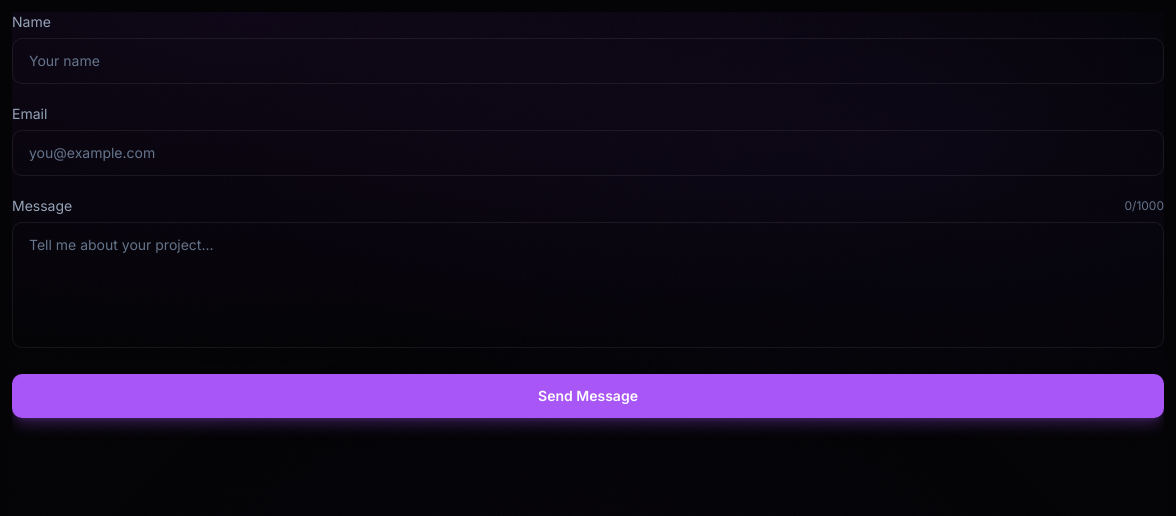
Scenario: ContactForm › shows form error when submission fails
In the field labelled "Name": (588, 61) left=12, top=38, right=1164, bottom=84, type "Jane Doe"
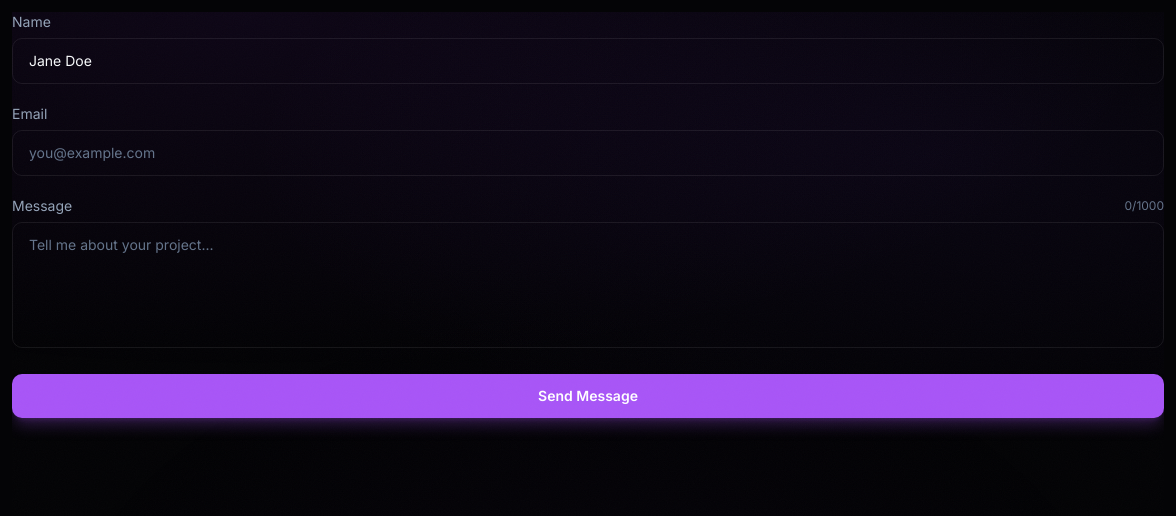
In the field labelled "Email": (588, 153) left=12, top=130, right=1164, bottom=176, type "jane@example.com"
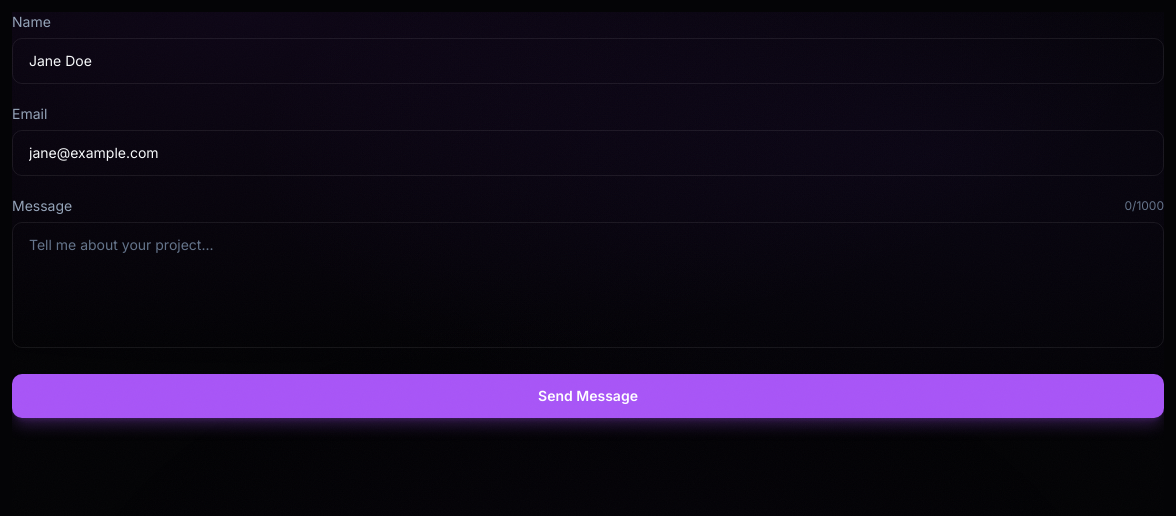
In the text box labelled "Message": (588, 285) left=12, top=222, right=1164, bottom=348, type "Hello, I have an opportunity for you!"
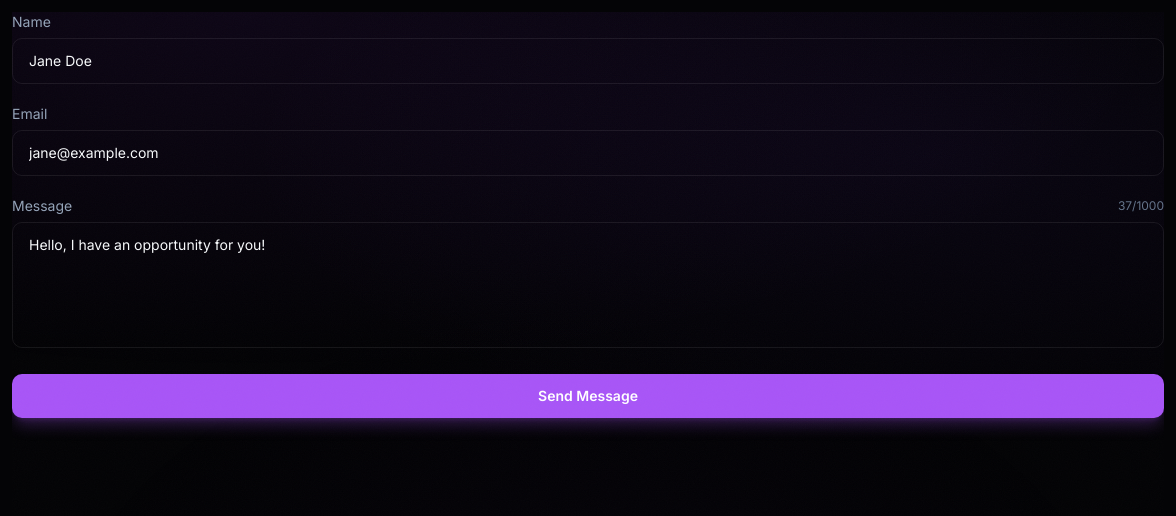
Click the button "Send Message": (588, 396) left=12, top=374, right=1164, bottom=418
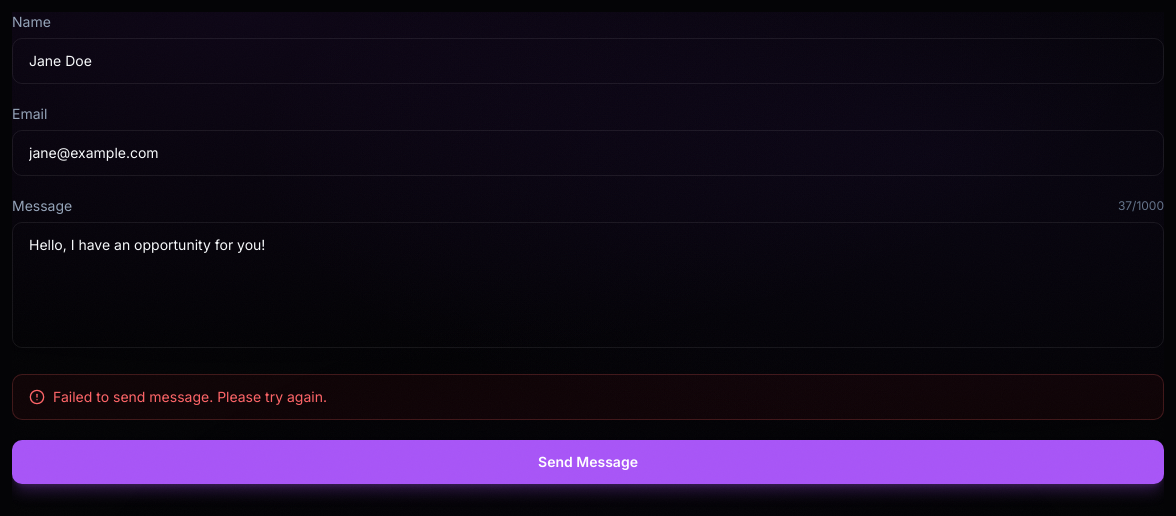
Expected: the element with test id "form-error" reads "Failed to send message. Please try again.", left=53, top=388, right=327, bottom=405
